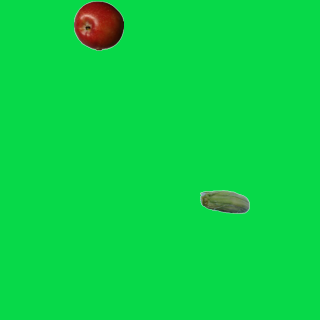Apple Braeburn: (73, 0, 123, 50)
Corn Husk: (199, 178, 249, 228)
